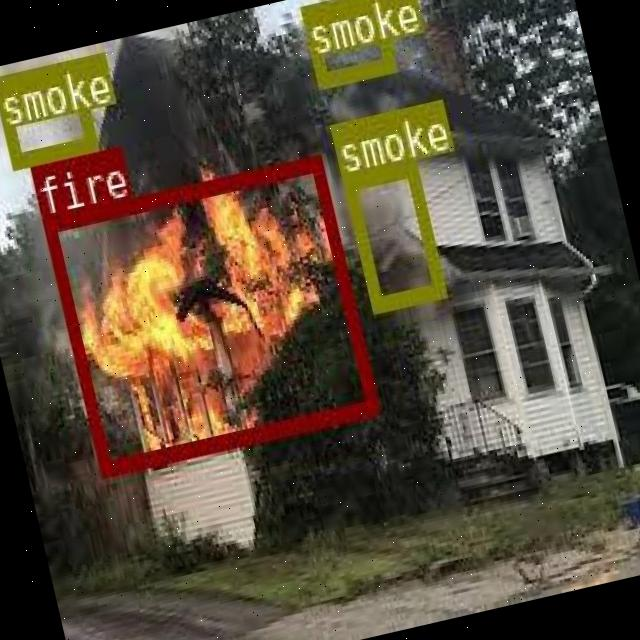fire: (41, 154, 376, 473)
smoke: (339, 158, 444, 311), (0, 58, 95, 167), (298, 0, 394, 87)
